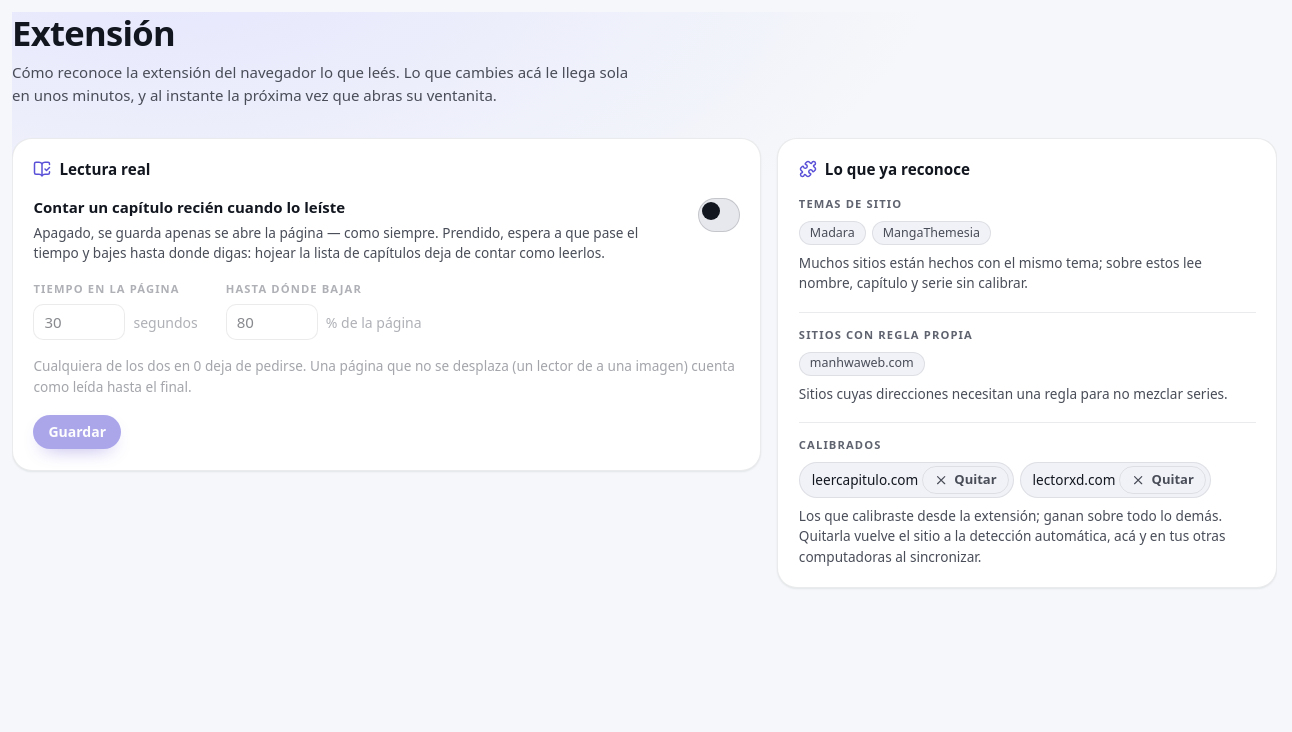
Test: ExtensionView › says so when a removal fails, and keeps the calibration listed
The width and height of the screenshot is (1292, 732).
What coordinates should you click on to do the following:
click the button with aria-label "Quitar la calibración de lectorxd.com"
I would click on:
 (1163, 480)
Its box is [1119, 466, 1206, 494].
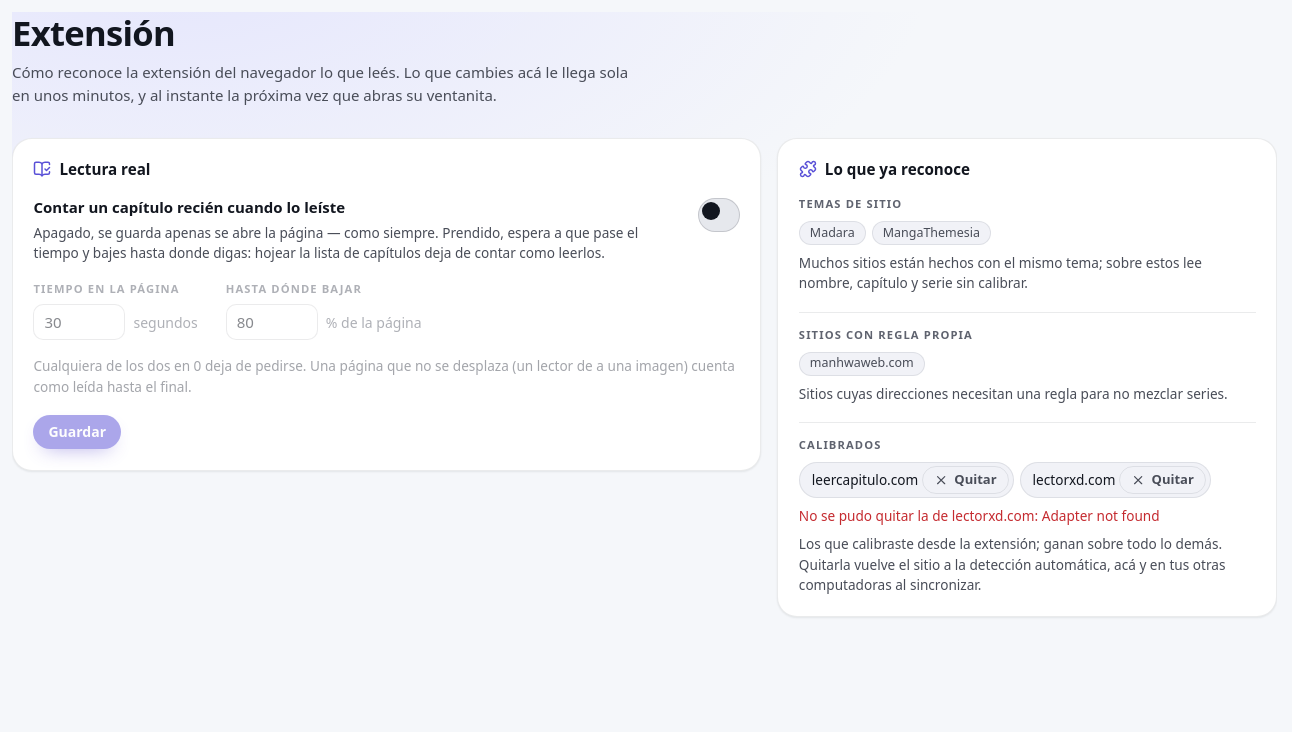
Expected: the text "lectorxd.com" is shown, [1033, 470, 1115, 490]
Now the message shows "Adapter not found", box [799, 506, 1160, 525]
